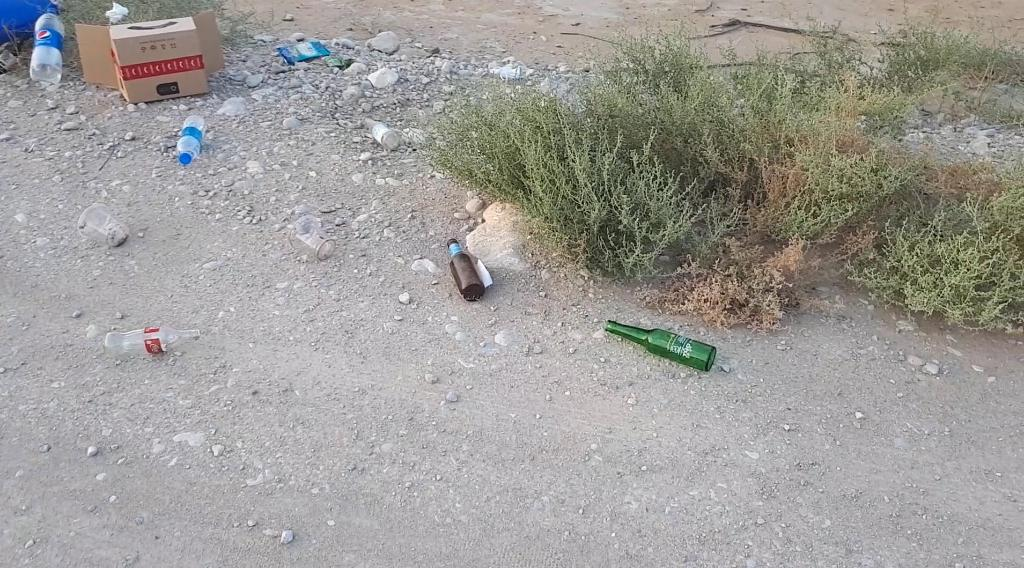garbage: (65, 14, 232, 101), (595, 305, 737, 379), (0, 0, 77, 94), (606, 320, 717, 372), (98, 321, 212, 362), (433, 228, 492, 304), (104, 326, 200, 359), (166, 110, 217, 164), (29, 8, 64, 84), (357, 110, 405, 164), (0, 0, 58, 43), (447, 239, 485, 301), (277, 35, 340, 71), (176, 114, 207, 164), (363, 116, 399, 149)
